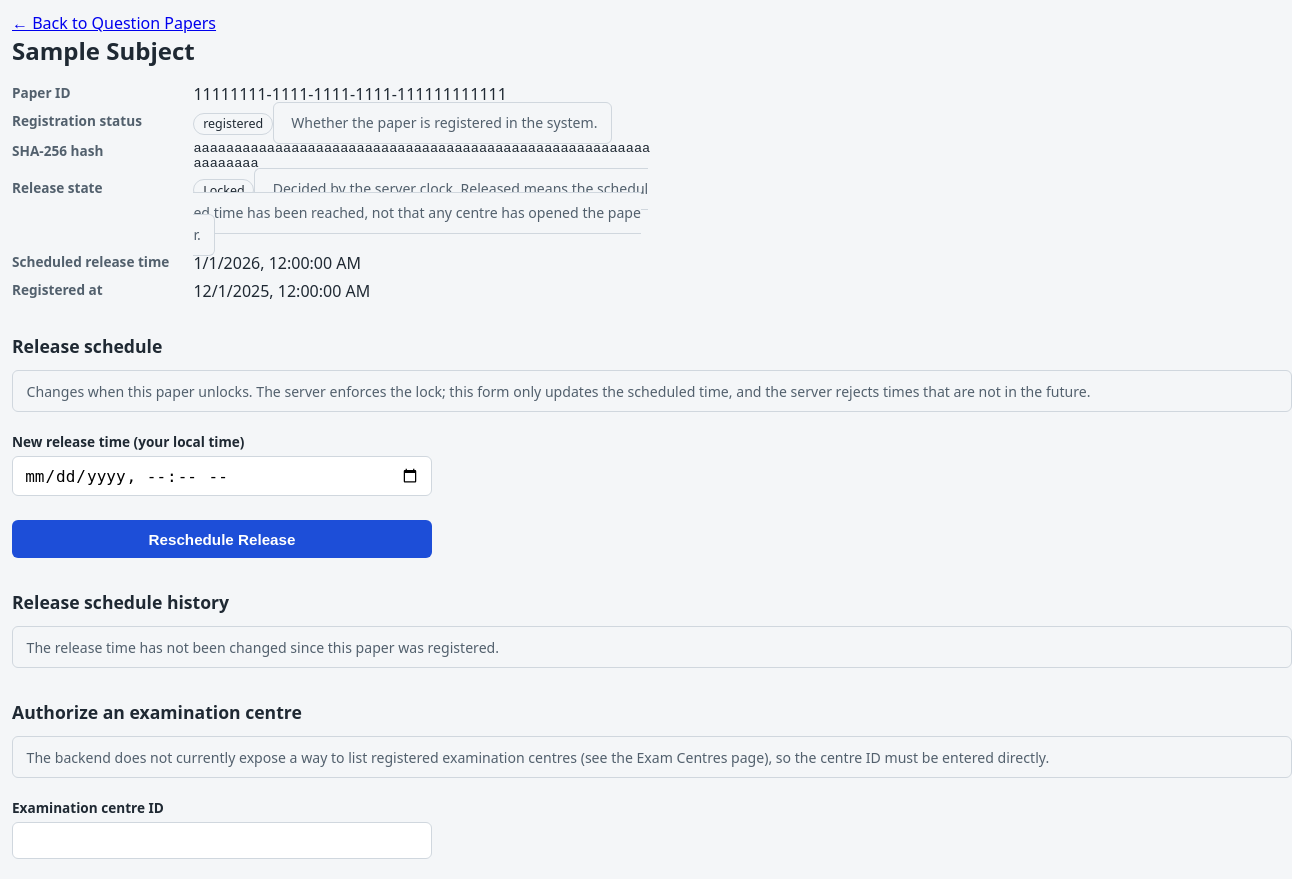
PaperDetailPage — Phase 6G release scheduling › sends an explicit UTC instant and shows the server's response
Type "2099-06-15T10:30" into the field labelled "New release time (your local time)" at (222, 476), box [12, 456, 432, 496]
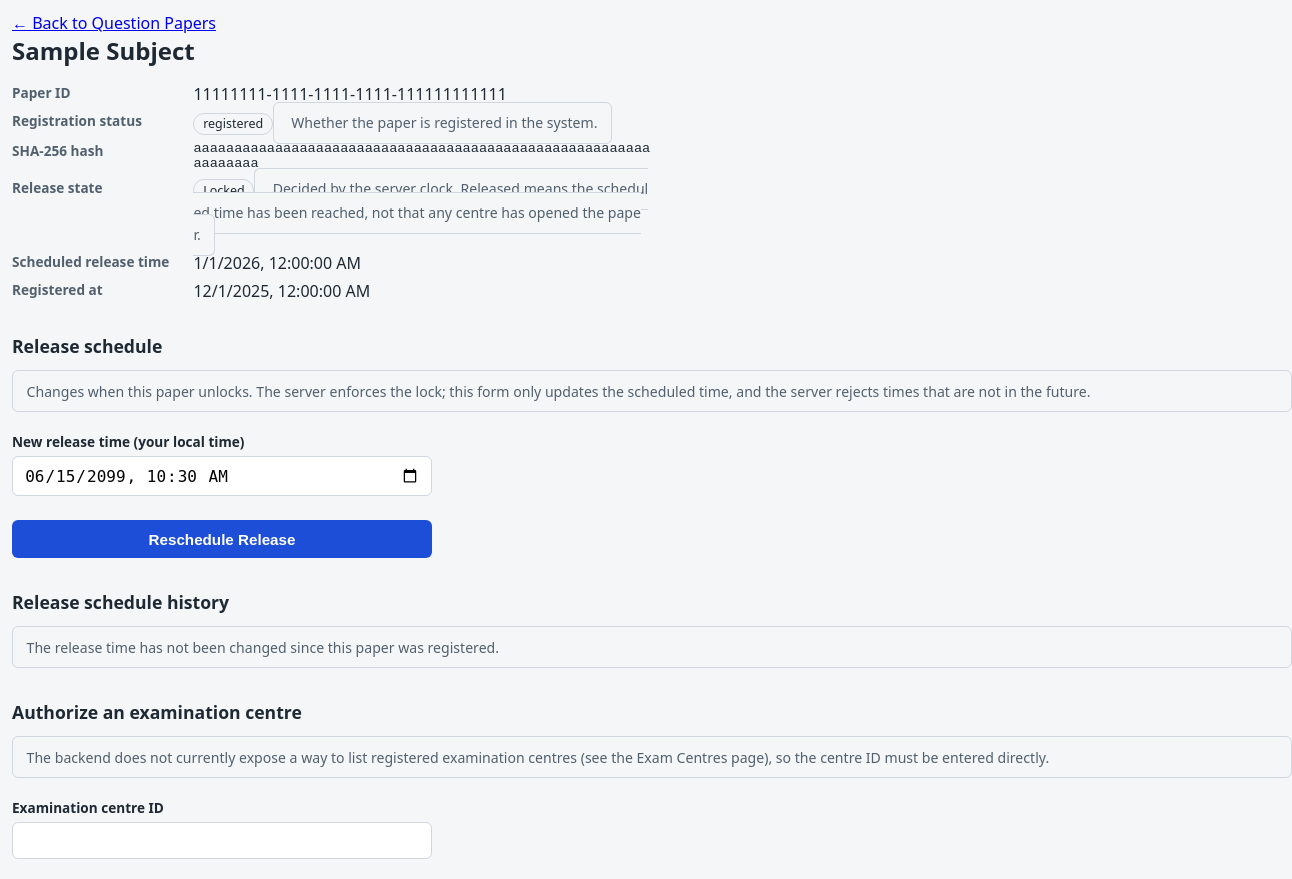
Click the button "Reschedule Release" at (222, 539), box [12, 520, 432, 558]
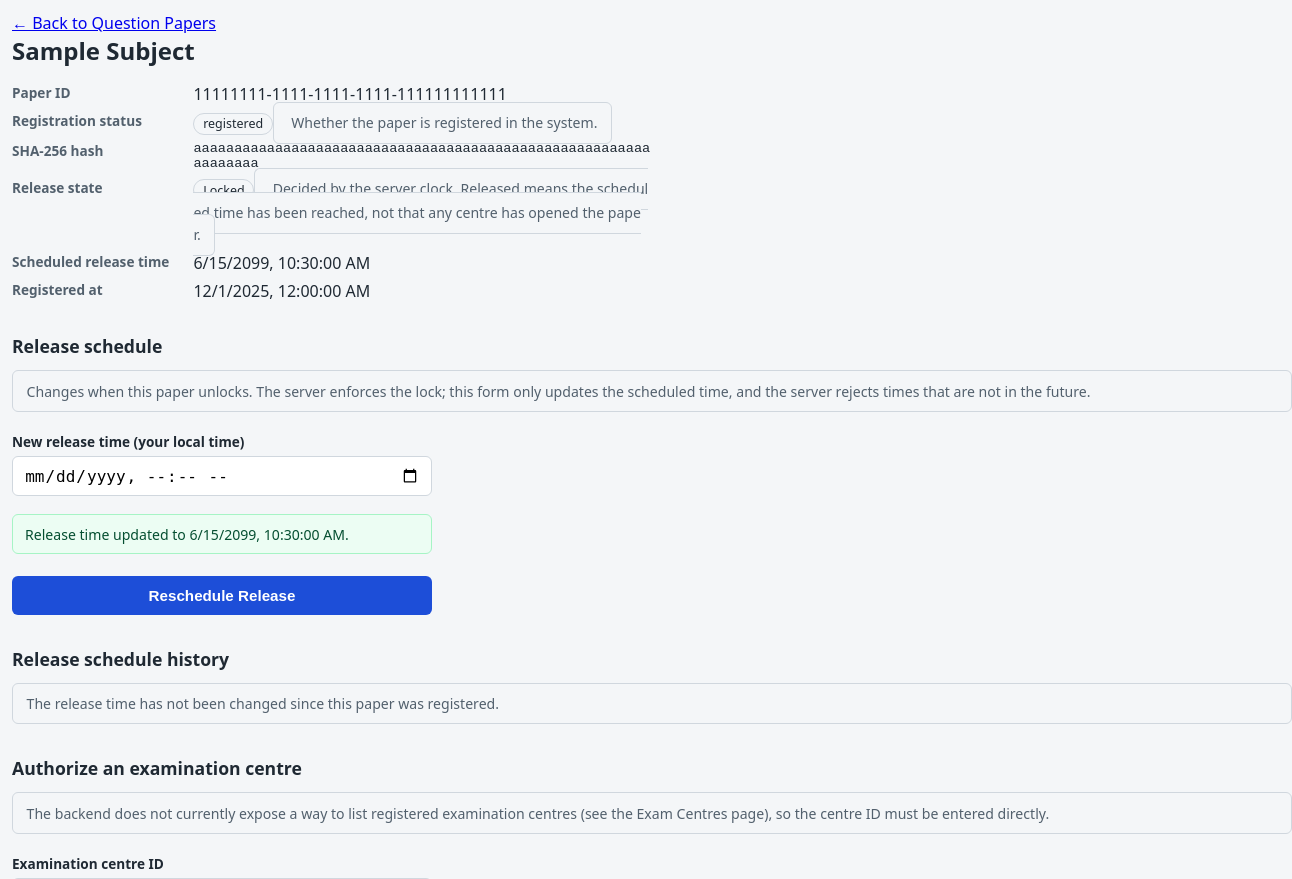
Now the message shows "Release time updated", box [25, 524, 349, 544]
